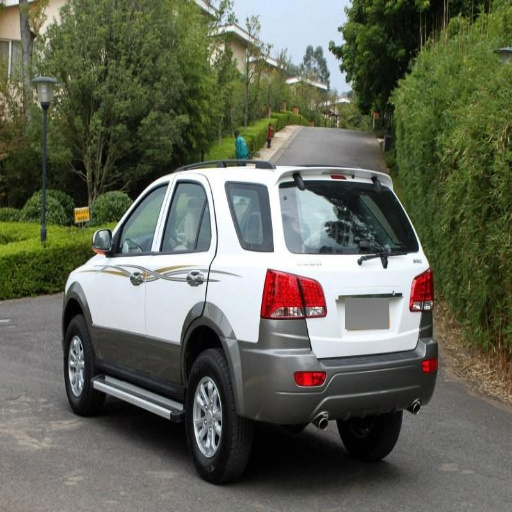back_bumper: (231, 319, 437, 426)
back_glass: (226, 181, 418, 255)
back_left_door: (144, 176, 216, 390)
tailgate: (302, 252, 416, 350)
trunk: (314, 276, 421, 355), (302, 257, 367, 295)
